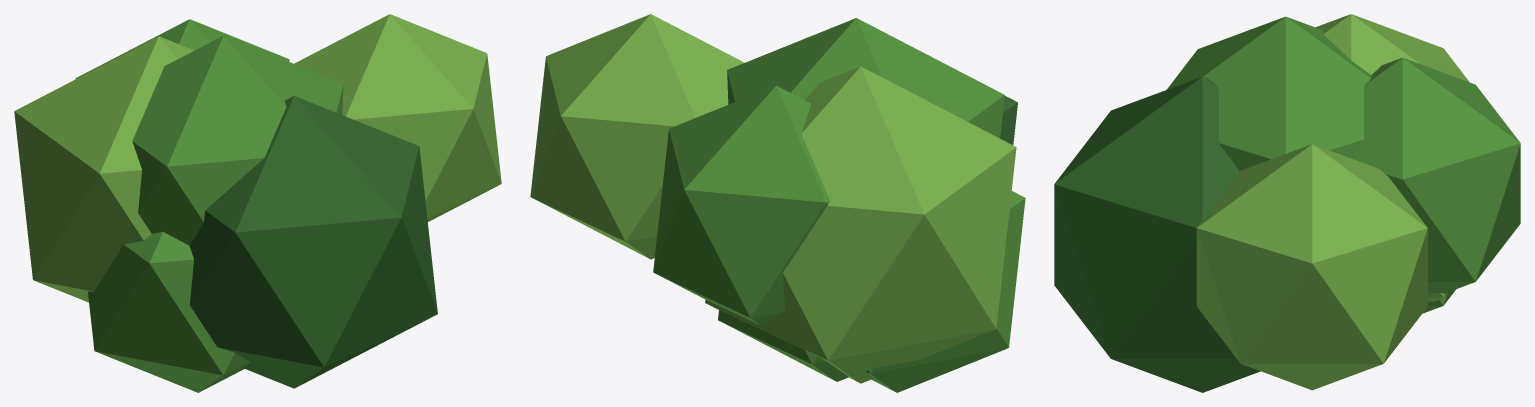
The model's file is buisson_prairie_2.glb.
3 views of the same model, side by side, from view 1: azimuth 30°, elevation 25°; view 2: azimuth 150°, elevation 25°; view 3: azimuth 270°, elevation 25° (orthographic). The views are drawn at different scales.
Visible parts, largest first — view 1: feuillage_feuille_sombre.012, feuillage_feuille_claire.006, feuillage_feuille.012; view 2: feuillage_feuille_claire.006, feuillage_feuille.012, feuillage_feuille_sombre.012; view 3: feuillage_feuille_claire.006, feuillage_feuille.012, feuillage_feuille_sombre.012.
Boxes of the visible parts, left/top/right/bottom form: feuillage_feuille_sombre.012: left=189, top=96, right=437, bottom=388; feuillage_feuille_claire.006: left=14, top=14, right=501, bottom=302; feuillage_feuille.012: left=75, top=19, right=343, bottom=392; feuillage_feuille_claire.006: left=530, top=14, right=1016, bottom=383; feuillage_feuille.012: left=653, top=18, right=1025, bottom=392; feuillage_feuille_sombre.012: left=1000, top=96, right=1017, bottom=144; feuillage_feuille_claire.006: left=1196, top=14, right=1469, bottom=390; feuillage_feuille.012: left=1166, top=16, right=1520, bottom=313; feuillage_feuille_sombre.012: left=1054, top=76, right=1260, bottom=392.
Size of the model in its own units: 0.7131 by 0.5391 by 0.6115.
